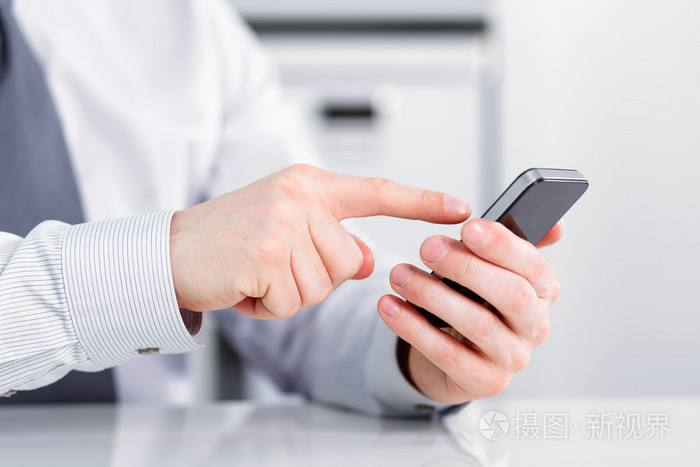reading: (373, 135, 595, 404)
